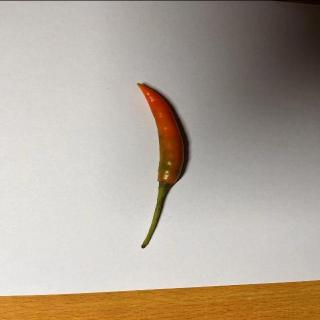Cabai Merah: (136, 82, 186, 250)
